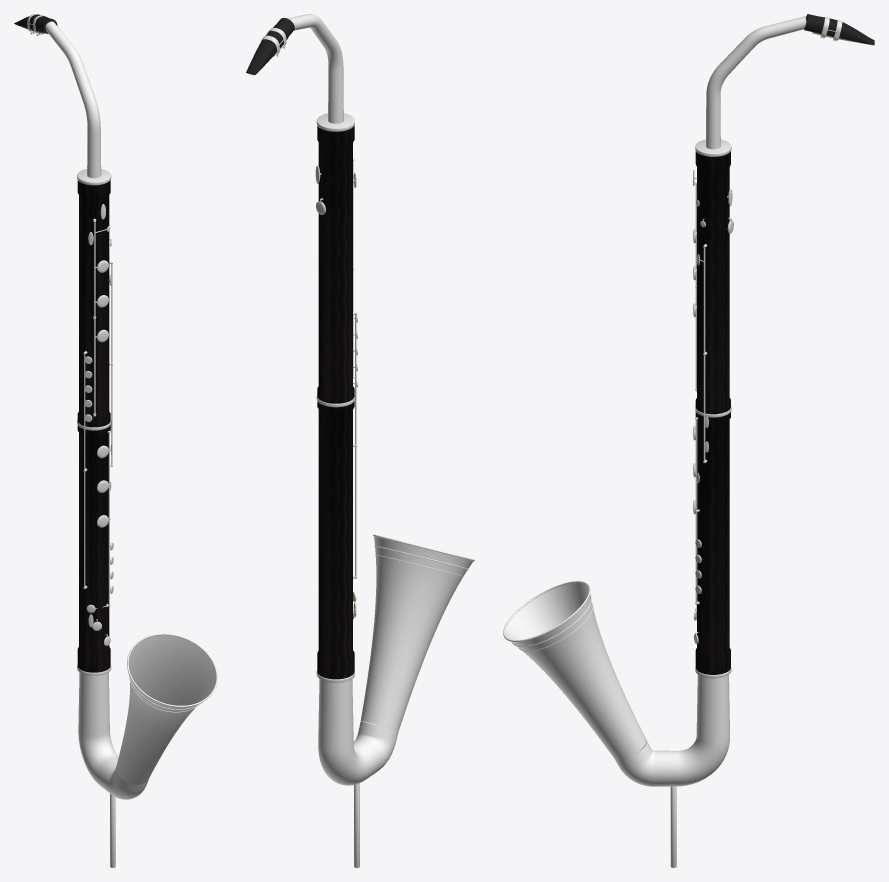
Rendered from bassClarinet.glb.
3 renders of one model, left to right at view 1: azimuth 30°, elevation 25°; view 2: azimuth 150°, elevation 25°; view 3: azimuth 270°, elevation 25°, orthographic. The views are drawn at different scales.
Visible parts, largest first — view 1: Body; view 2: Body; view 3: Body.
Part boxes in pixels (bbox=[...]): Body: bbox=[14, 14, 217, 867]; Body: bbox=[246, 14, 474, 867]; Body: bbox=[503, 14, 874, 867].
Bounding box in the file's own units: 0.1377 × 1.3 × 0.5142.
6 materials, 1 textured.
